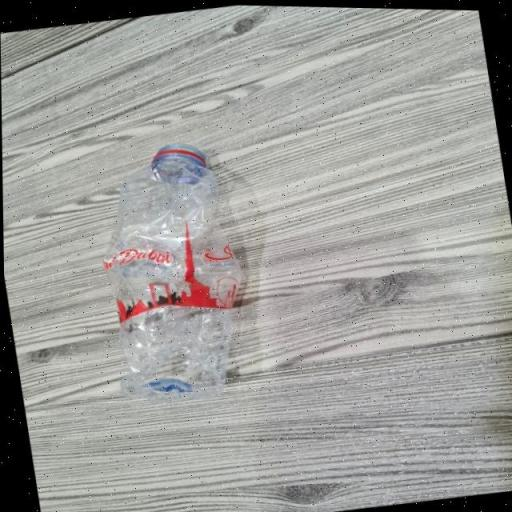plastic: (76, 126, 274, 404)
